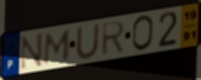2: (157, 10, 180, 49)
M: (42, 28, 72, 67)
N: (19, 31, 45, 71)
O: (131, 14, 155, 53)
R: (101, 20, 127, 58)
U: (75, 22, 101, 61)
